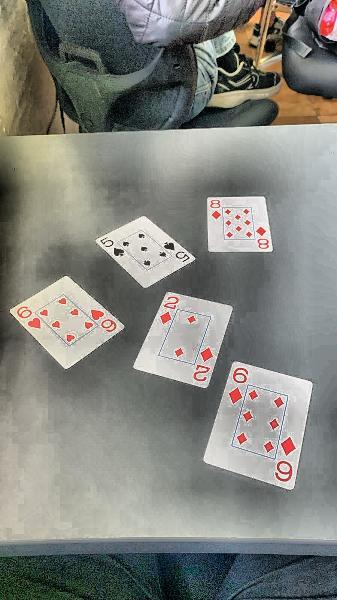2D: (191, 345, 218, 384), (158, 293, 181, 326)
5P: (162, 239, 192, 265), (98, 234, 126, 260)
6C: (88, 307, 120, 335), (15, 304, 43, 331)
6D: (272, 434, 301, 483), (226, 365, 251, 407)
8D: (256, 224, 271, 251), (208, 198, 223, 221)
